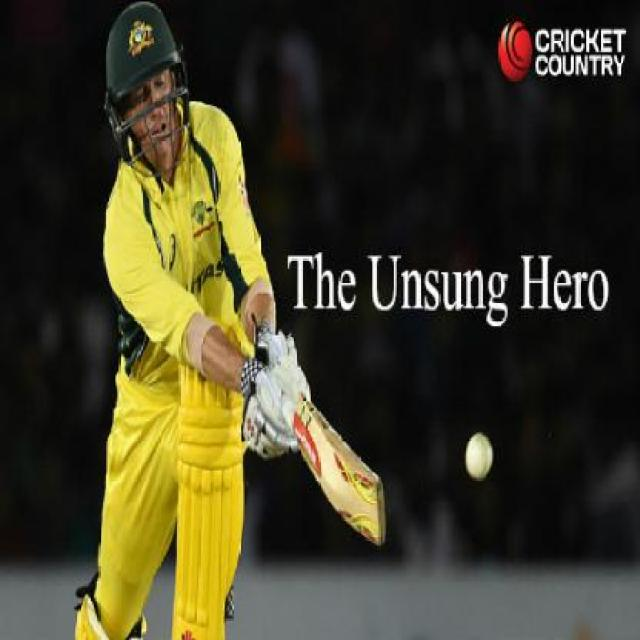ball: (434, 406, 529, 508)
